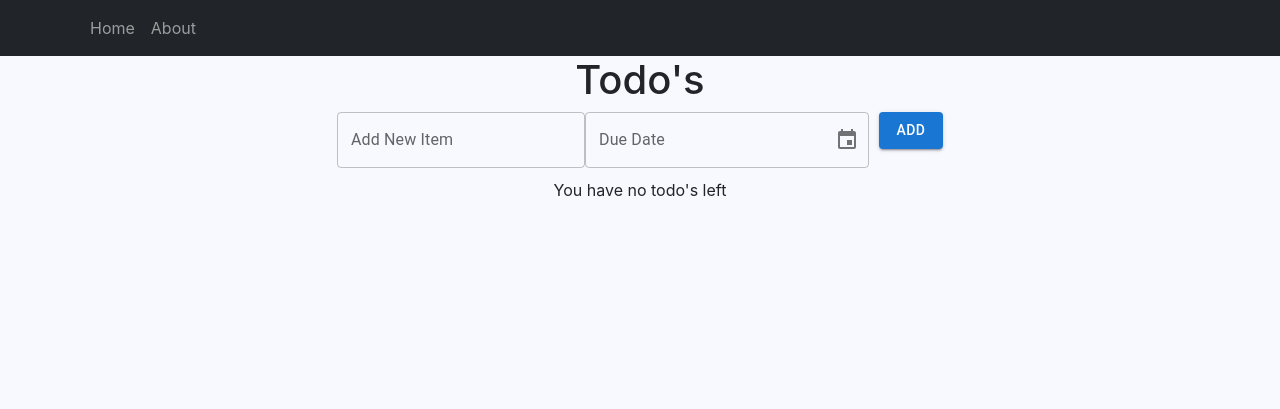
Test case: test that App component doesn't render dupicate Task
This screenshot has width=1280, height=409.
In the field labelled "Add New Item": x=461, y=140 [337,112,585,168], type "dtest"
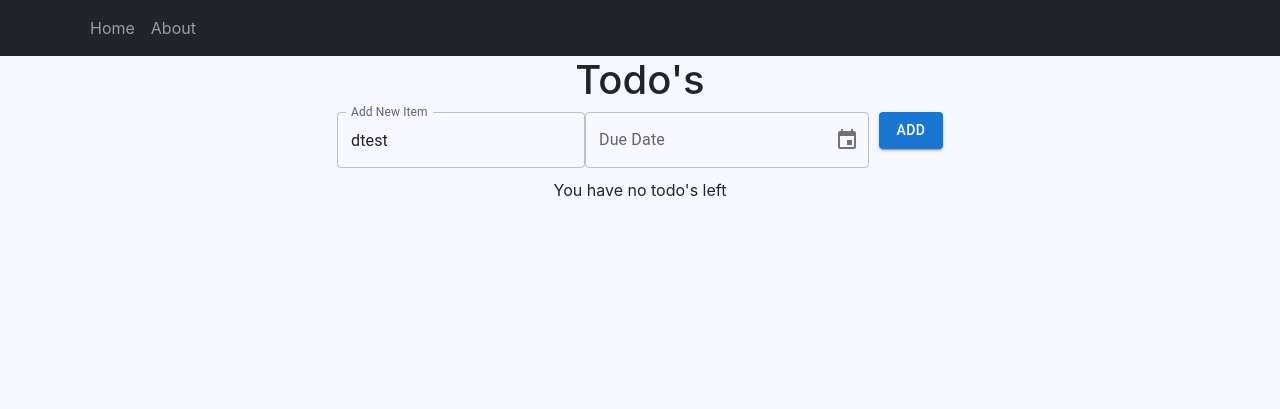
In the field with placeholder "mm/dd/yyyy": x=702, y=140 [585,112,819,168], type "05/30/2023"
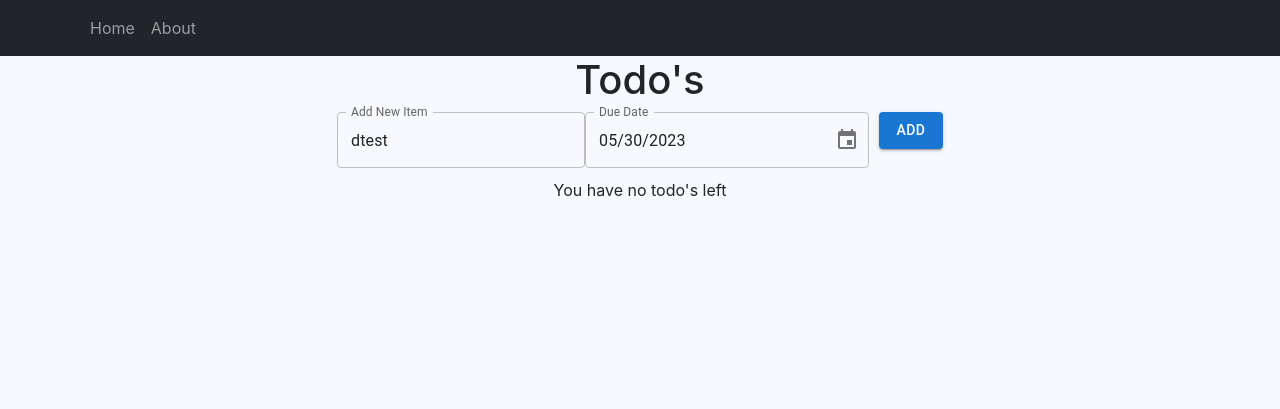
Click the button "Add": x=911, y=130 [879,112,943,148]
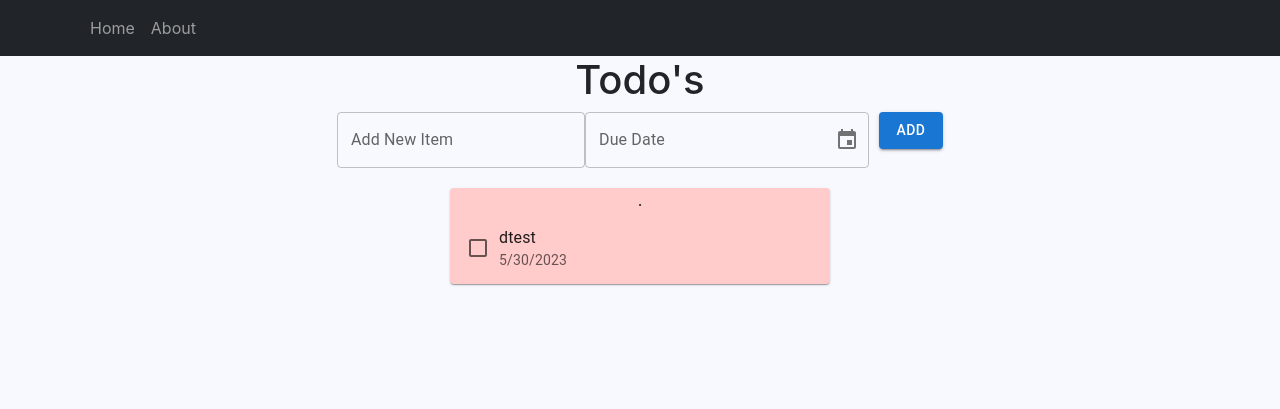
In the field labelled "Add New Item": x=461, y=140 [337,112,585,168], type "duplicate test"
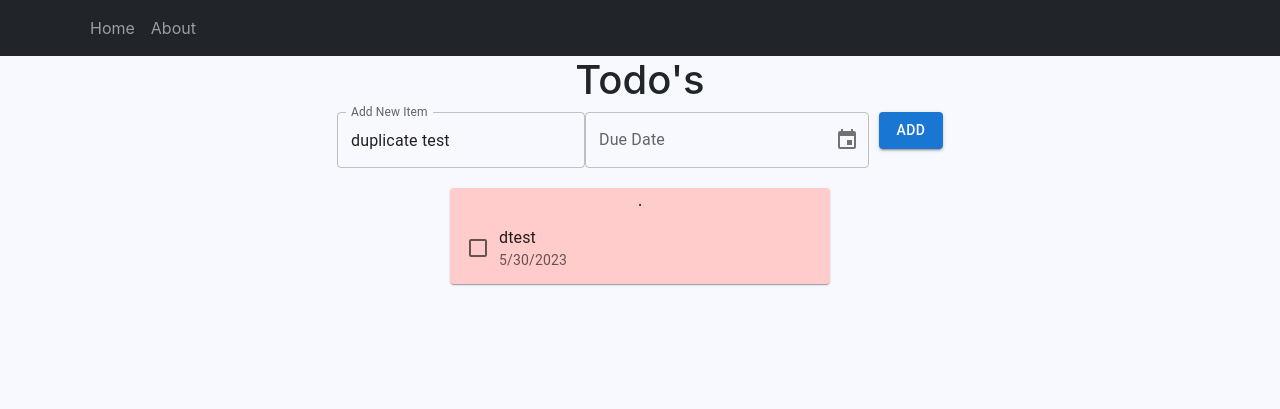
In the field with placeholder "mm/dd/yyyy": x=702, y=140 [585,112,819,168], type "05/30/2023"
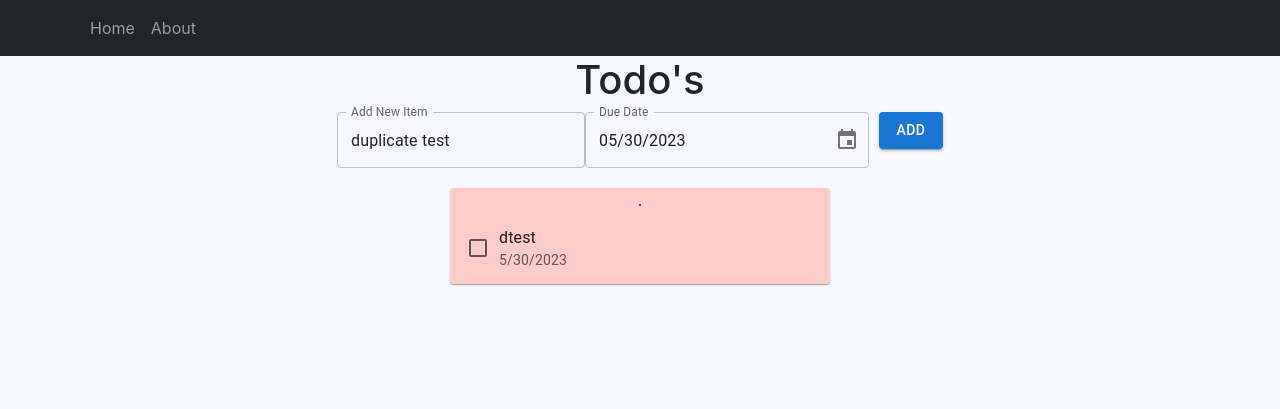
Click the button "Add": x=911, y=130 [879,112,943,148]
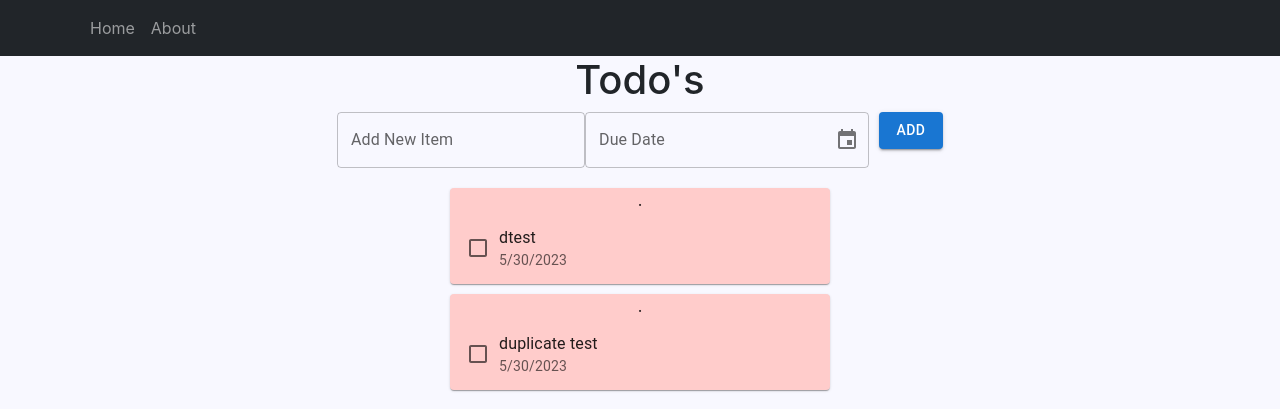
Expected: the text "dtest" is shown once, [499,228,536,247]
